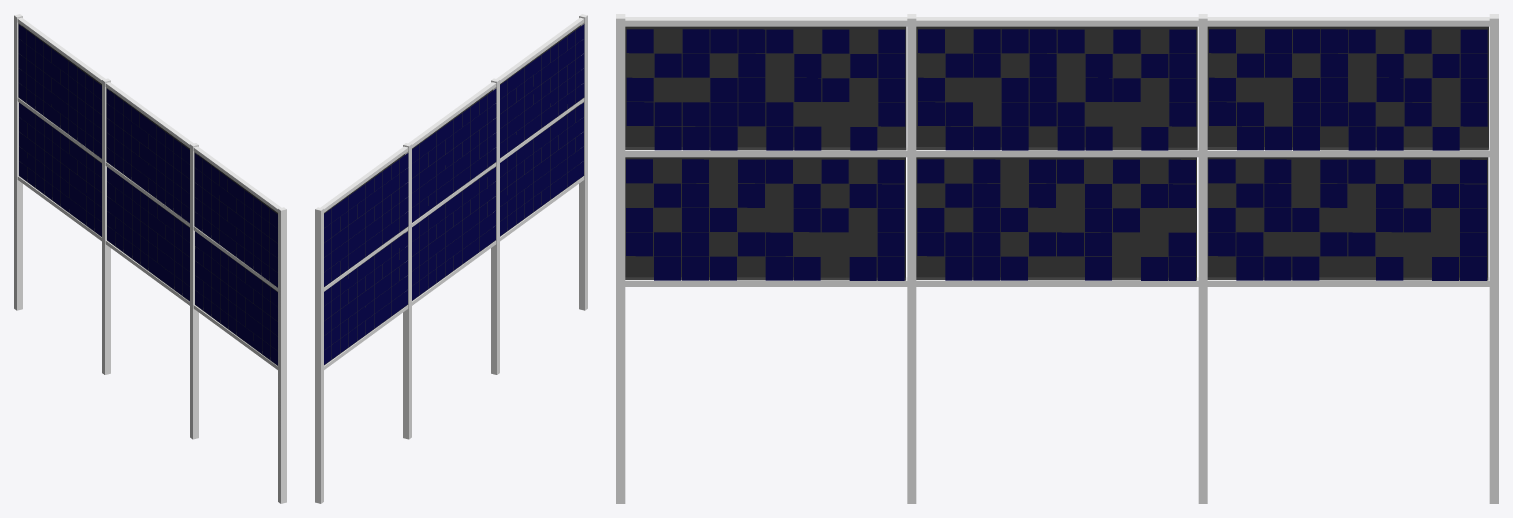
The model's file is w-sun-panel2.glb.
3 views of the same model, side by side, from view 1: azimuth 30°, elevation 25°; view 2: azimuth 150°, elevation 25°; view 3: azimuth 270°, elevation 25° (orthographic). The views are drawn at different scales.
Visible parts, largest first — view 1: 立方体.001, 立方体.003, 立方体.002; view 2: 立方体.002, 立方体.001, 立方体.003; view 3: 立方体.002, 立方体.001, 立方体.003.
Part boxes in pixels (bbox=[...]): 立方体.001: bbox=[102, 78, 198, 439]; 立方体.003: bbox=[190, 143, 286, 503]; 立方体.002: bbox=[14, 14, 105, 374]; 立方体.002: bbox=[315, 144, 411, 503]; 立方体.001: bbox=[403, 80, 499, 439]; 立方体.003: bbox=[491, 14, 587, 340]; 立方体.002: bbox=[1198, 14, 1498, 503]; 立方体.001: bbox=[907, 14, 1207, 503]; 立方体.003: bbox=[616, 14, 916, 503].
Size of the model in its own units: 0.2 by 9.38 by 15.46.
